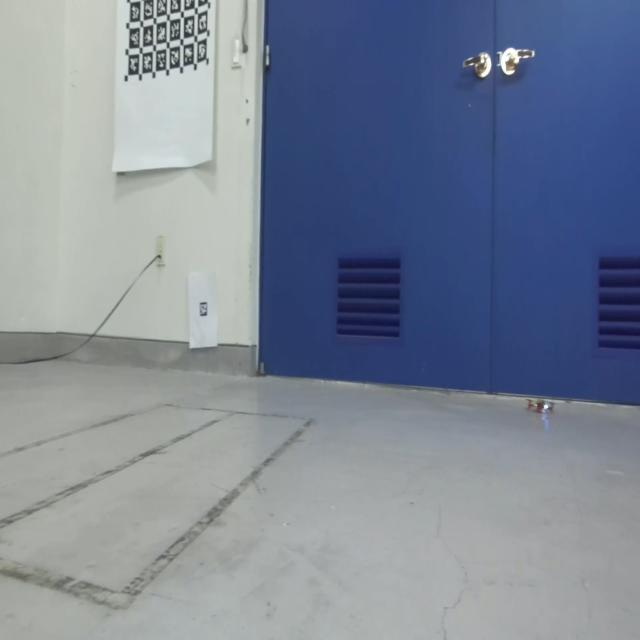crazyflie: (525, 394, 559, 420)
